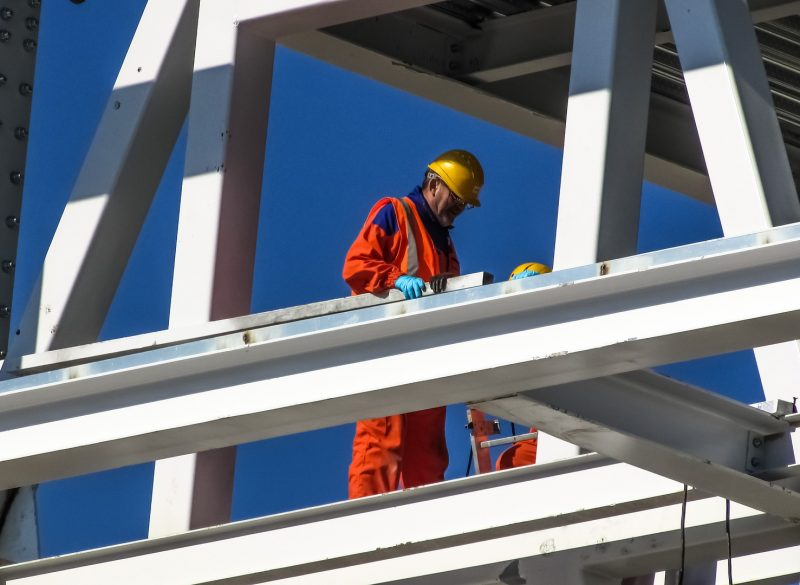With Helmet: (416, 143, 484, 231)
